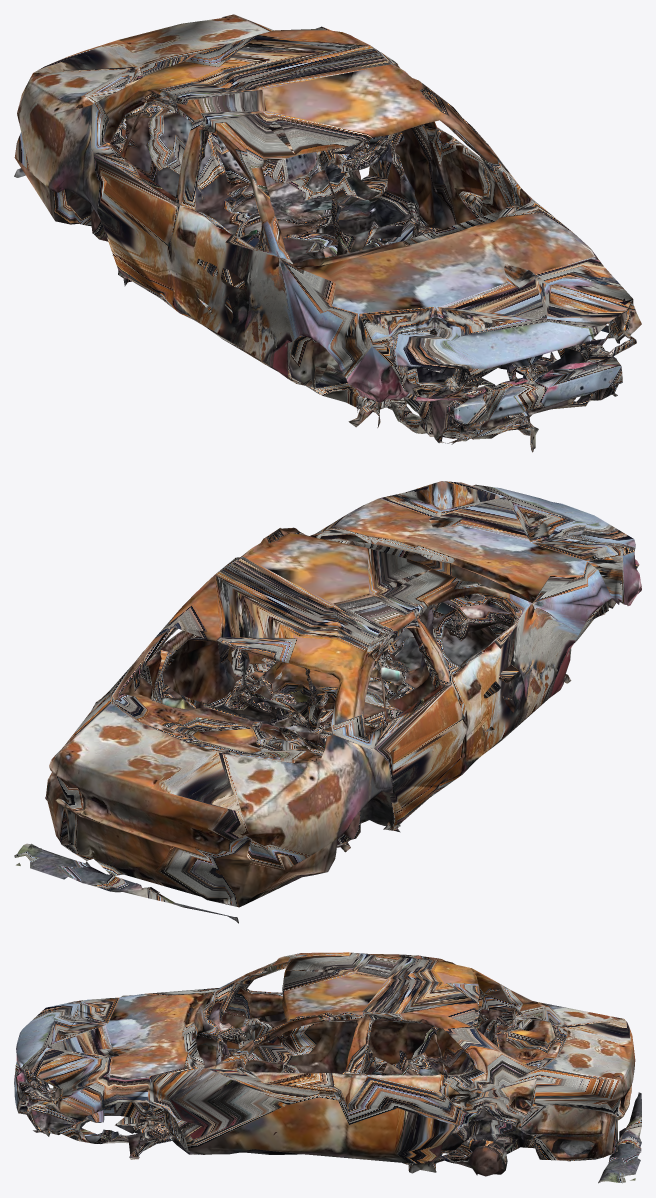
File: burnt_car.glb
The picture shows the model from 3 angles, top to bottom: view 1: azimuth 30°, elevation 25°; view 2: azimuth 150°, elevation 25°; view 3: azimuth 270°, elevation 25°; orthographic projection. The views are drawn at different scales.
Visible parts, largest first — view 1: burnt_car_Mat_0; view 2: burnt_car_Mat_0; view 3: burnt_car_Mat_0.
Boxes of the visible parts, bbox=[...] form: burnt_car_Mat_0: bbox=[14, 14, 641, 452]; burnt_car_Mat_0: bbox=[14, 481, 641, 923]; burnt_car_Mat_0: bbox=[14, 952, 641, 1183].
Size of the model in its own units: 2.43 by 1.72 by 6.13.
Materials: 1 (1 with a texture image).
